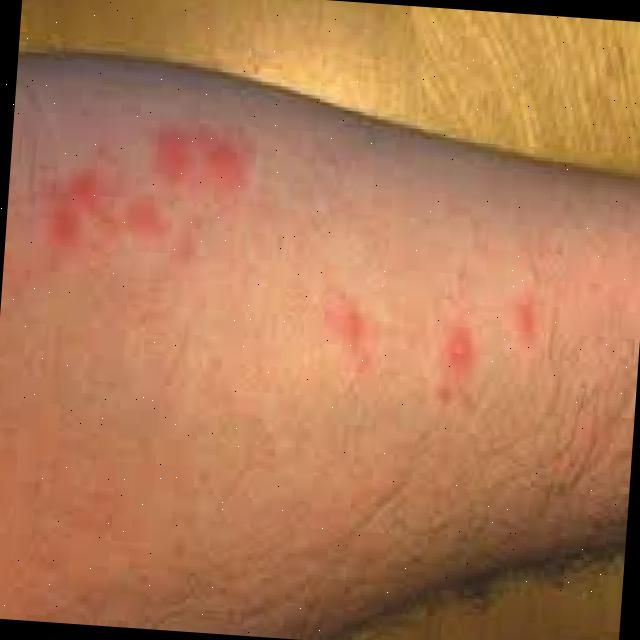kan emici bocekler: (144, 113, 250, 203), (46, 158, 114, 285), (432, 310, 484, 407), (328, 285, 381, 380), (495, 291, 555, 370)
